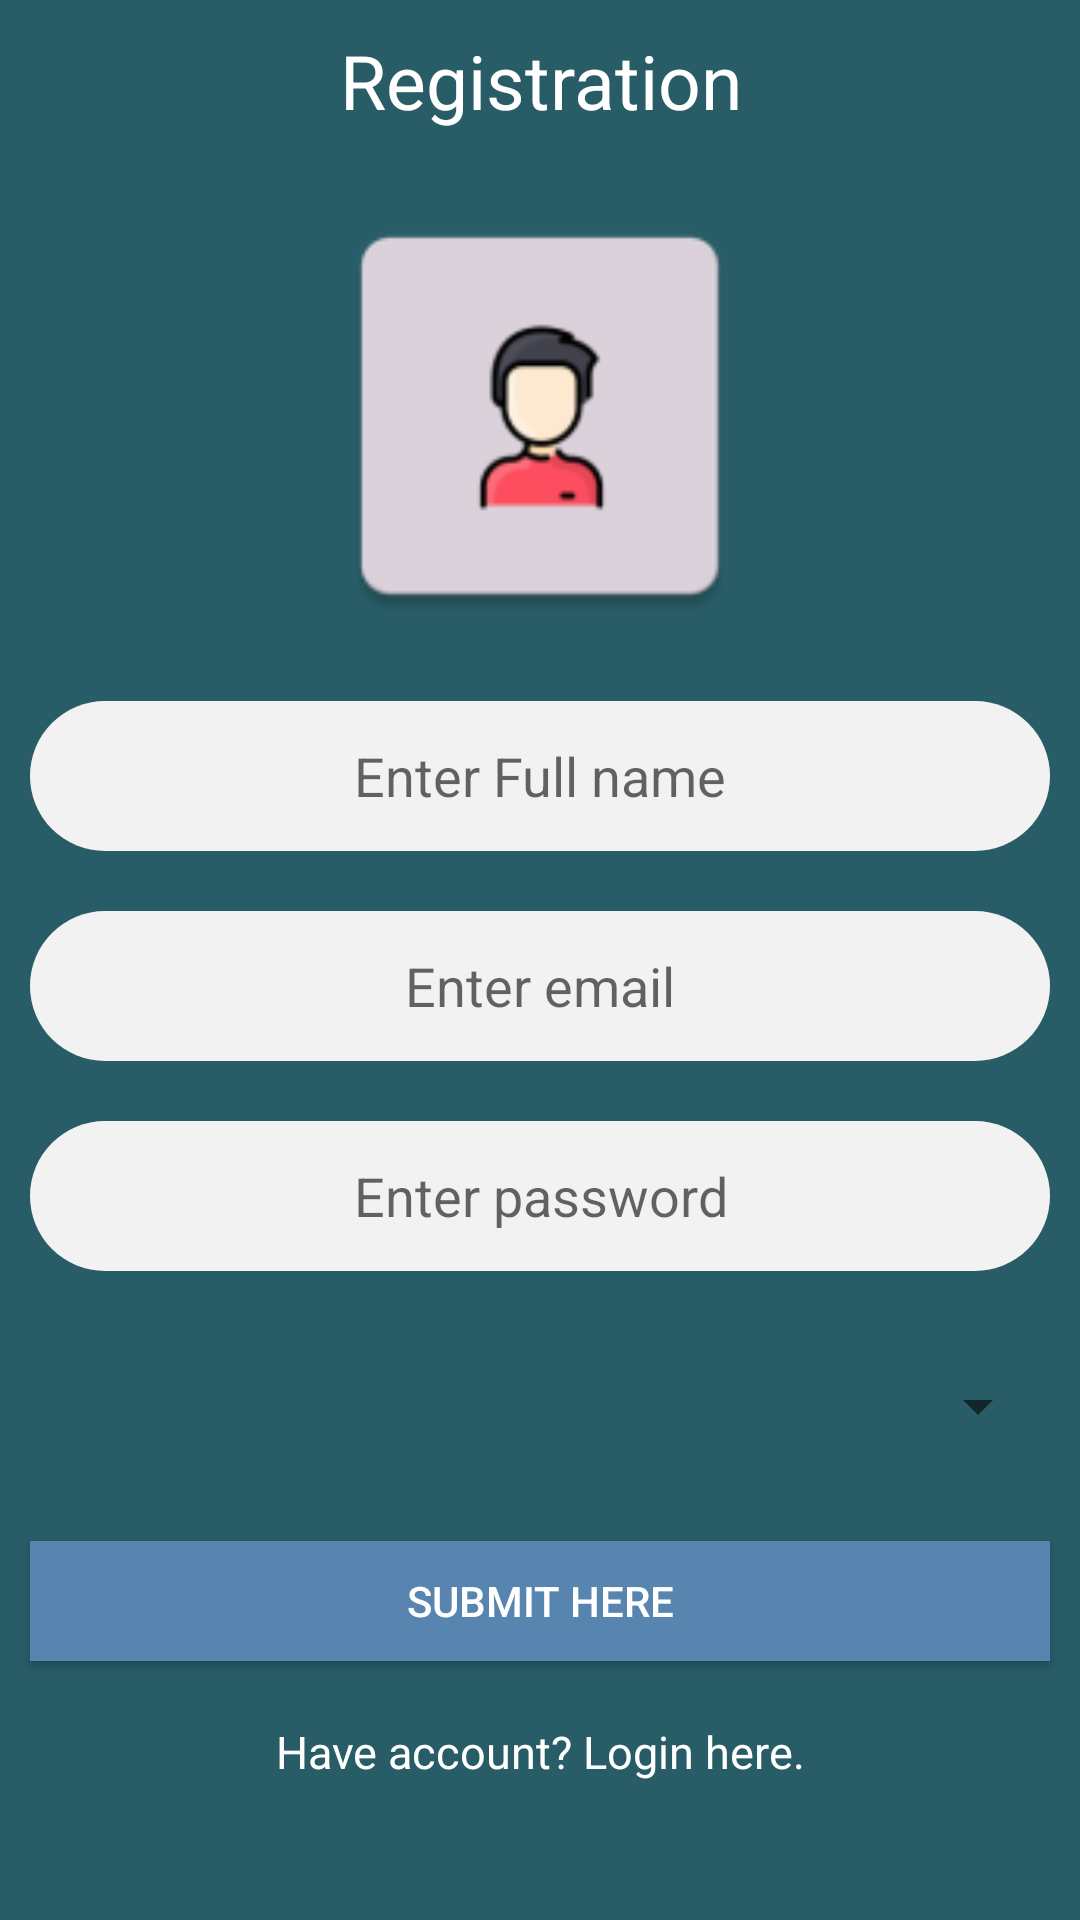

Named icons in this screenshot (1080px×1920px) and their bounding boxes, (x1, y1, x2, y2):
man: (360, 236, 720, 595)
